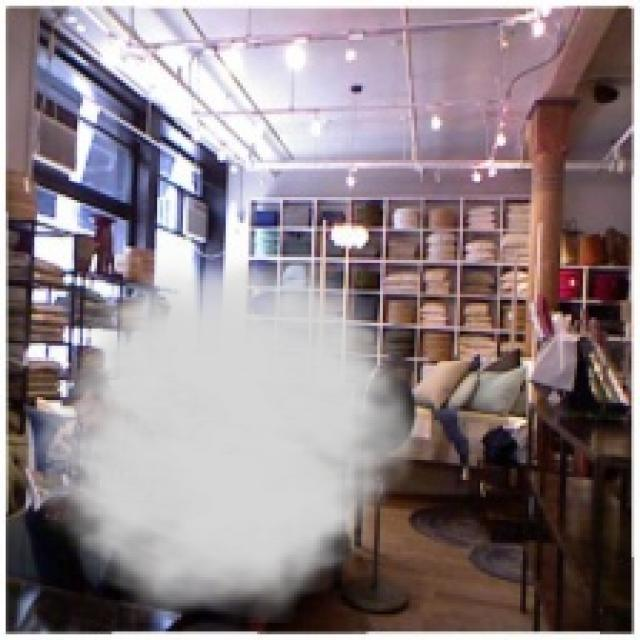Smoke: (17, 237, 437, 623)
